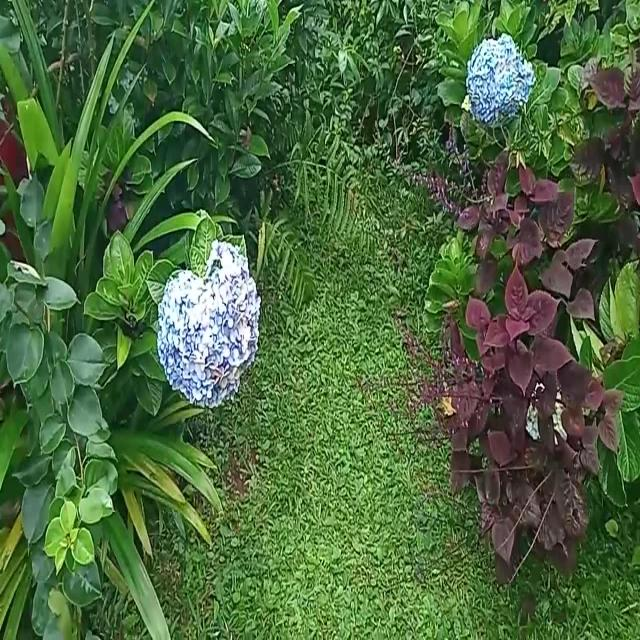Flower: (155, 230, 263, 412), (464, 29, 540, 140)
